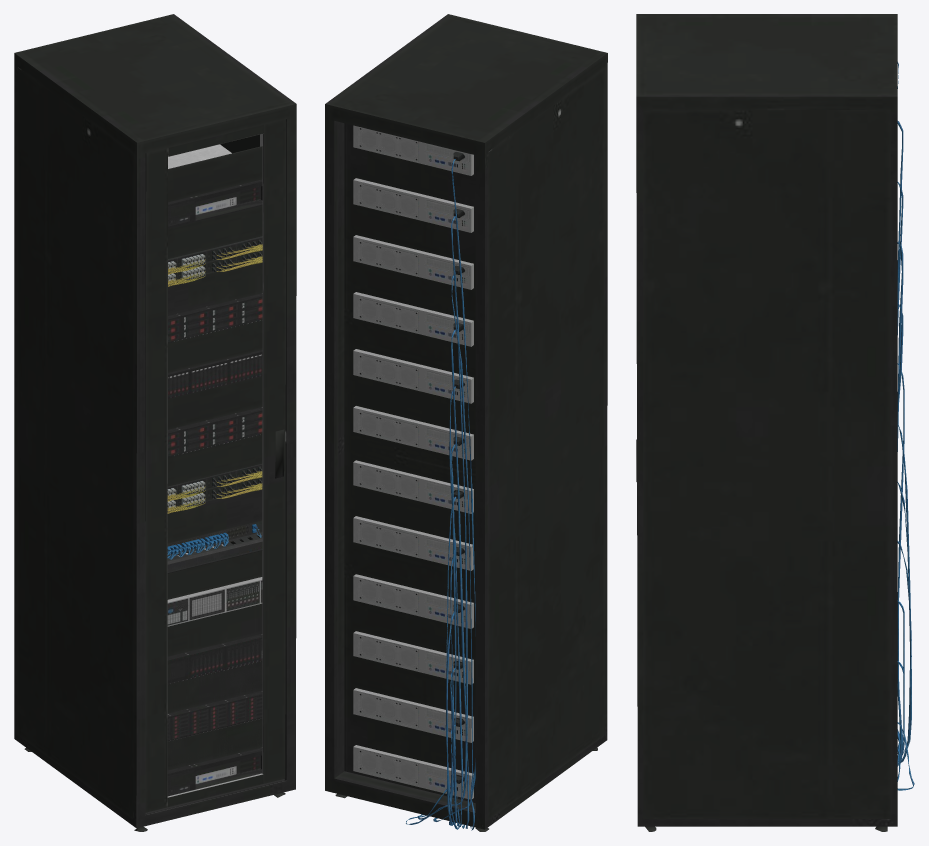
Rendered from server.glb.
The picture shows the model from 3 angles, left to right: view 1: azimuth 30°, elevation 25°; view 2: azimuth 150°, elevation 25°; view 3: azimuth 270°, elevation 25°; orthographic projection. The views are drawn at different scales.
Parts seen in each view (by area): view 1: object 4, object 9, object 1, SM_Servers_1_001_1_StingrayPBS3_0, SM_Servers_2_001_StingrayPBS3_0, SM_Servers_2_001_1_StingrayPBS3_0, SM_Server_8_001_1_StingrayPBS2_0, SM_Server_8_001_StingrayPBS2_0, SM_Servers_1_001_StingrayPBS3_0; view 2: object 4, object 1; view 3: object 4, object 1.
Boxes of the visible parts, box(x1,y1,x2,y2) form: object 4: box(14, 14, 296, 831); object 9: box(167, 350, 262, 741); object 1: box(167, 520, 262, 626); SM_Servers_1_001_1_StingrayPBS3_0: box(168, 144, 262, 228); SM_Servers_2_001_StingrayPBS3_0: box(168, 407, 262, 457); SM_Servers_2_001_1_StingrayPBS3_0: box(168, 293, 262, 343); SM_Server_8_001_1_StingrayPBS2_0: box(168, 236, 262, 286); SM_Server_8_001_StingrayPBS2_0: box(167, 464, 262, 513); SM_Servers_1_001_StingrayPBS3_0: box(167, 747, 262, 796); object 4: box(325, 14, 607, 831); object 1: box(353, 125, 475, 830); object 4: box(636, 14, 897, 831); object 1: box(897, 62, 914, 790).
Size of what is drawn, in the model's own units: 0.602 by 2.5 by 0.855.
3 materials, 3 textured.
